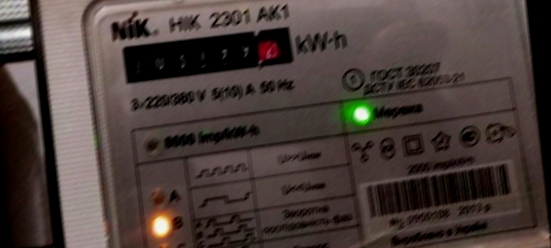0: (153, 51, 166, 71), (130, 55, 141, 73)
1: (196, 44, 207, 62)
3: (175, 49, 187, 70)
6: (263, 44, 274, 59)
9: (217, 40, 229, 61), (239, 40, 251, 59)
screen: (114, 17, 301, 90)
